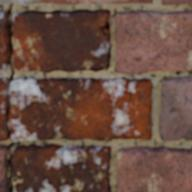brick: (13, 10, 110, 72), (115, 10, 191, 73), (12, 144, 110, 191), (117, 146, 191, 191), (160, 77, 191, 140), (0, 11, 10, 71), (0, 145, 8, 191), (162, 0, 191, 4)
broken_brick: (9, 76, 153, 141), (0, 87, 8, 141), (0, 0, 84, 5), (93, 0, 153, 4), (0, 76, 7, 82)
crack: (0, 1, 21, 191), (98, 21, 109, 36), (91, 66, 107, 71), (80, 0, 100, 3)
